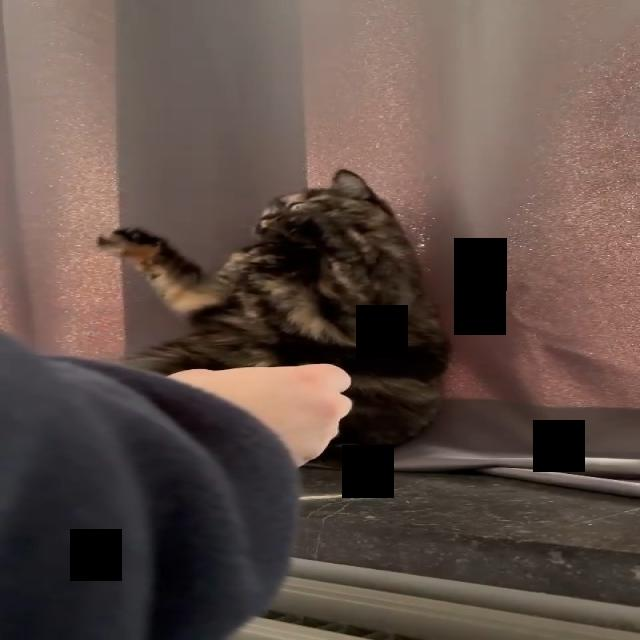authorized: (95, 168, 452, 468)
